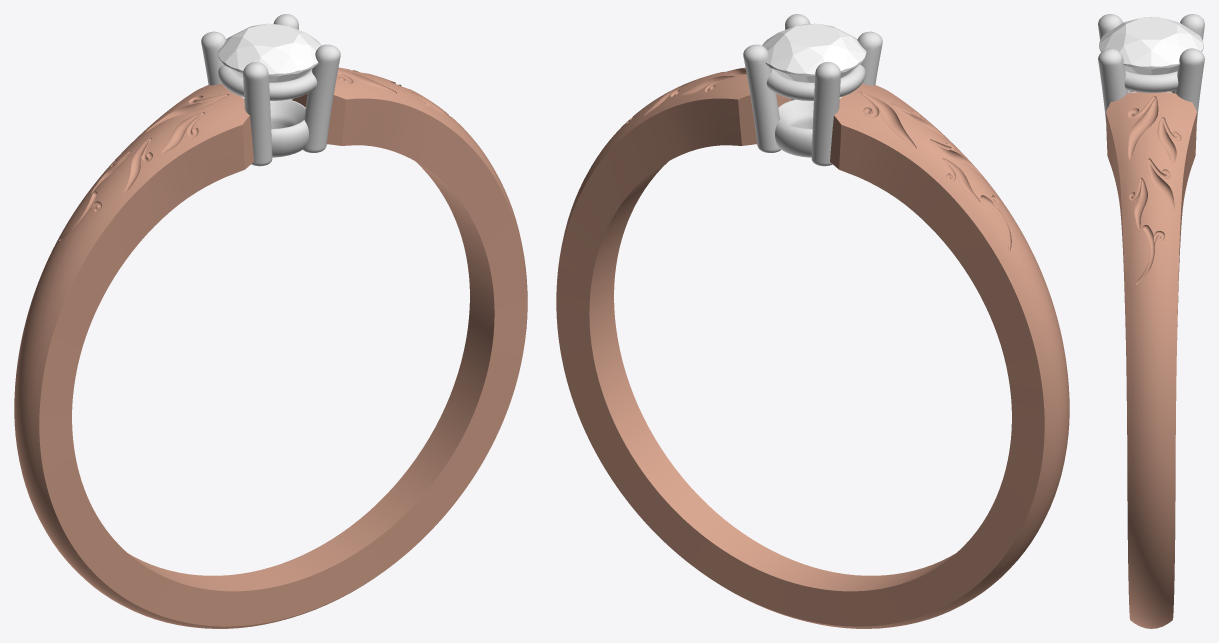
The model's file is alexPractice_webgi.glb.
3 renders of one model, left to right at view 1: azimuth 30°, elevation 25°; view 2: azimuth 150°, elevation 25°; view 3: azimuth 270°, elevation 25°, orthographic.
Visible parts, largest first — view 1: Ann_Hoffman_STL006, Ann_Hoffman_STL001, Ann_Hoffman_STL007; view 2: Ann_Hoffman_STL006, Ann_Hoffman_STL001, Ann_Hoffman_STL007; view 3: Ann_Hoffman_STL006, Ann_Hoffman_STL001, Ann_Hoffman_STL007.
Part boxes in pixels (box(x1,y1,x2,y2)): Ann_Hoffman_STL006: box(14, 67, 527, 628); Ann_Hoffman_STL001: box(201, 14, 340, 166); Ann_Hoffman_STL007: box(217, 23, 321, 82); Ann_Hoffman_STL006: box(556, 67, 1069, 628); Ann_Hoffman_STL001: box(743, 14, 882, 166); Ann_Hoffman_STL007: box(762, 23, 866, 82); Ann_Hoffman_STL006: box(1106, 91, 1196, 628); Ann_Hoffman_STL001: box(1098, 14, 1204, 123); Ann_Hoffman_STL007: box(1099, 17, 1203, 74).
Size of the model in its own units: 2.66 by 2.95 by 0.4978.
